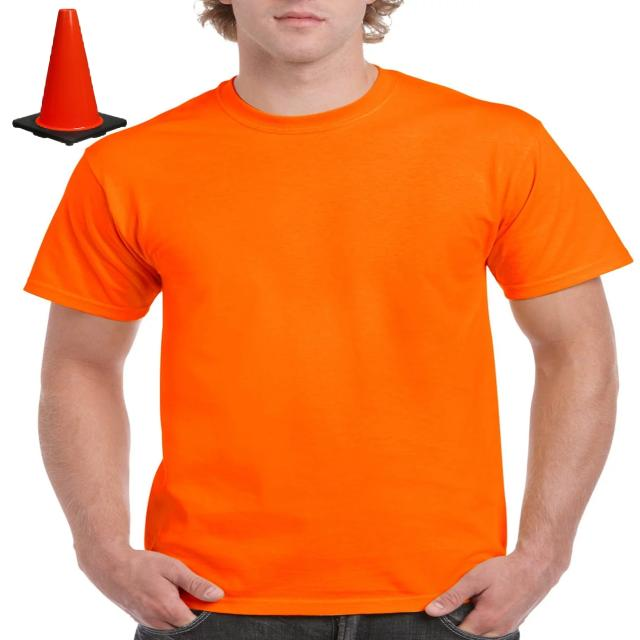traffic cone: (7, 5, 137, 155)
